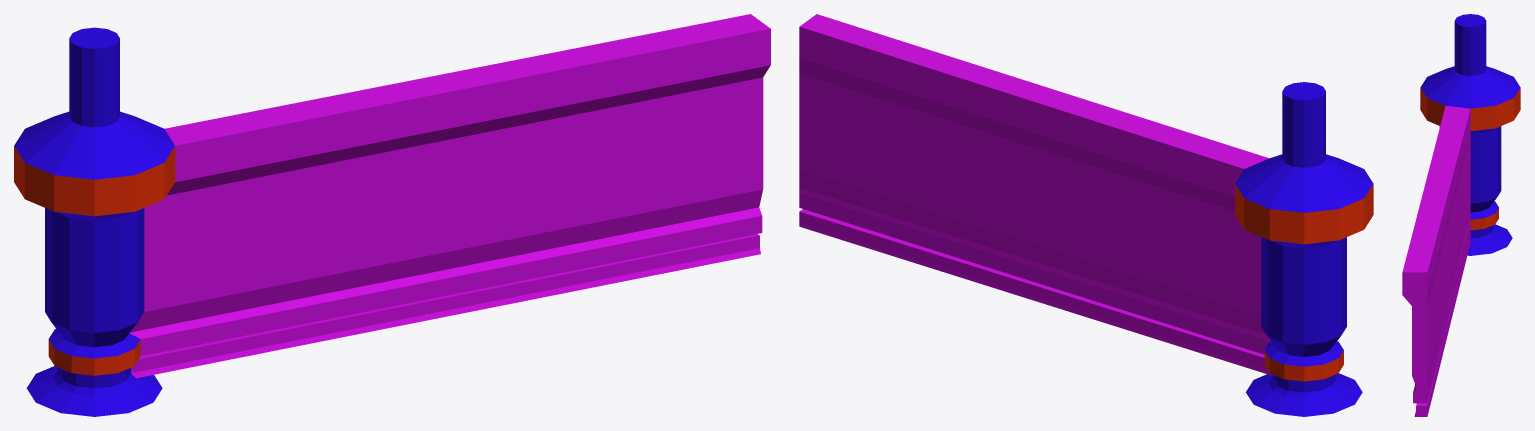
Rendered from Flipper.fbx.
3 views of the same model, side by side, from view 1: azimuth 30°, elevation 25°; view 2: azimuth 150°, elevation 25°; view 3: azimuth 270°, elevation 25° (orthographic). The views are drawn at different scales.
Parts seen in each view (by area): view 1: Circle; view 2: Circle; view 3: Circle.
Boxes of the visible parts, bbox=[...] form: Circle: bbox=[14, 14, 770, 416]; Circle: bbox=[799, 14, 1373, 416]; Circle: bbox=[1402, 14, 1520, 416].
Size of the model in its own units: 2616 by 1265 by 623.
